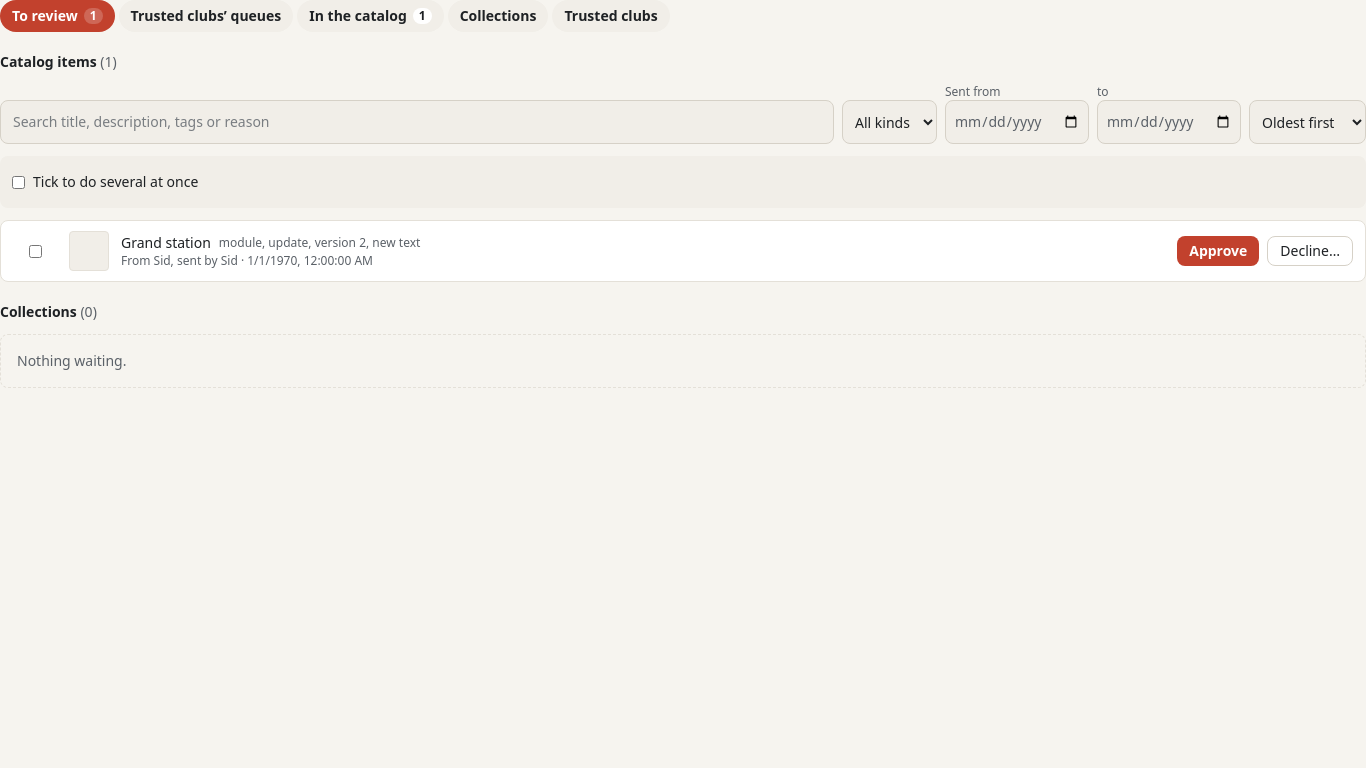
Test: an update waiting for review › shows the new text, and what the public sees now
This screenshot has width=1366, height=768.
Click the button with aria-label "Details of Grand station" at (166, 242), box x1=121 y1=229 x2=1165 y2=273
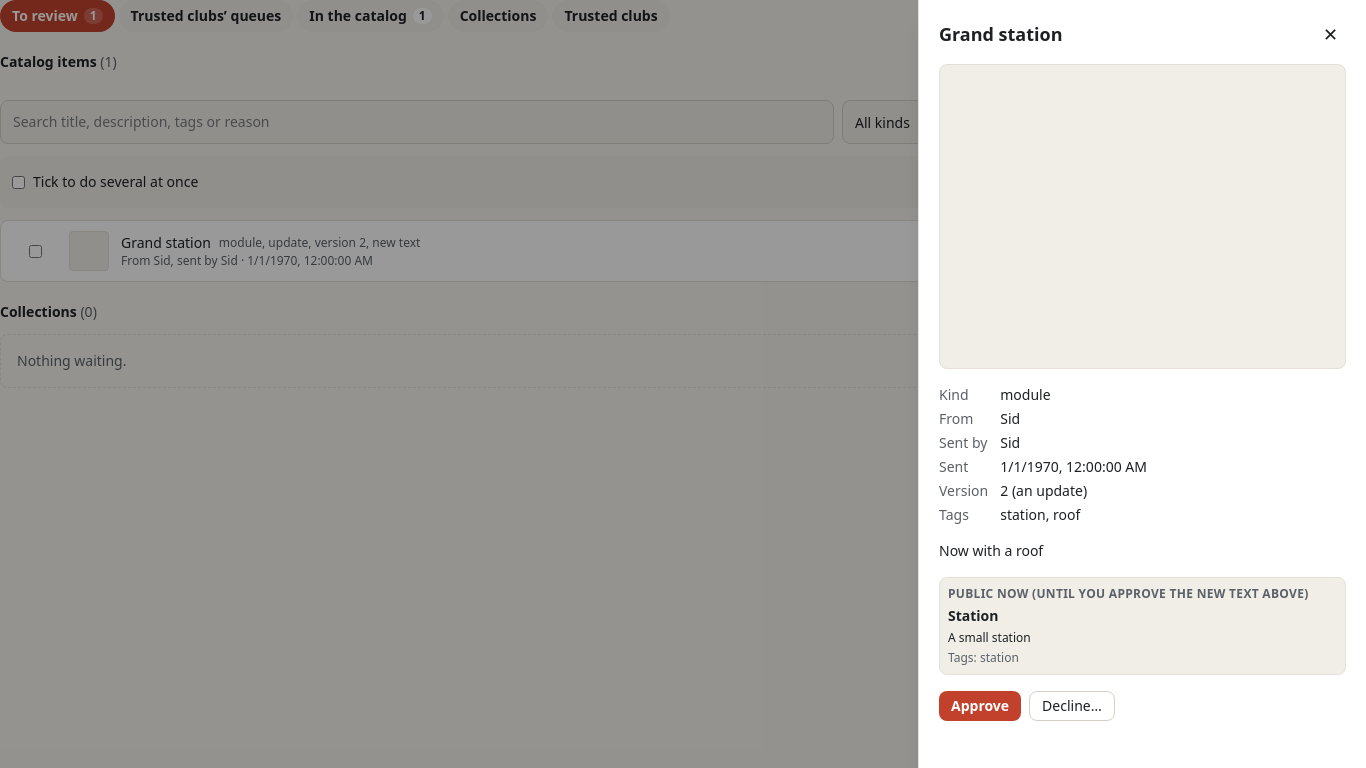
expect the dialog "Grand station" shows "Now with a roof": met, box x1=939 y1=541 x2=1043 y2=560
expect the element with test id "entry-current-text" shows "Station": met, box x1=948 y1=606 x2=998 y2=625
expect the element with test id "entry-current-text" shows "A small station": met, box x1=948 y1=629 x2=1031 y2=646
